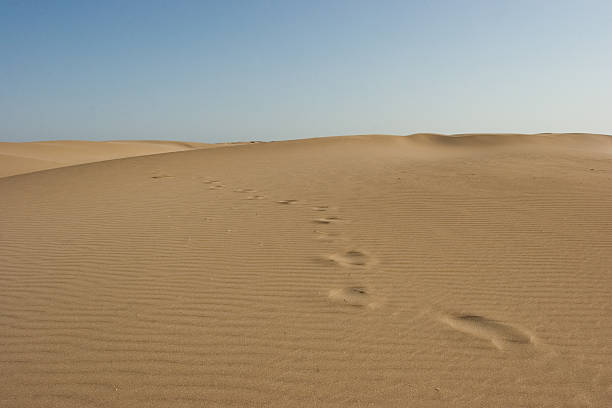animal_foot_print: (439, 314, 534, 349), (328, 286, 379, 308), (327, 249, 372, 266), (315, 230, 345, 241), (313, 216, 342, 223), (151, 174, 174, 179), (276, 199, 297, 204), (233, 188, 255, 192), (202, 178, 219, 183), (209, 183, 223, 189), (312, 206, 328, 211), (245, 195, 264, 199)
